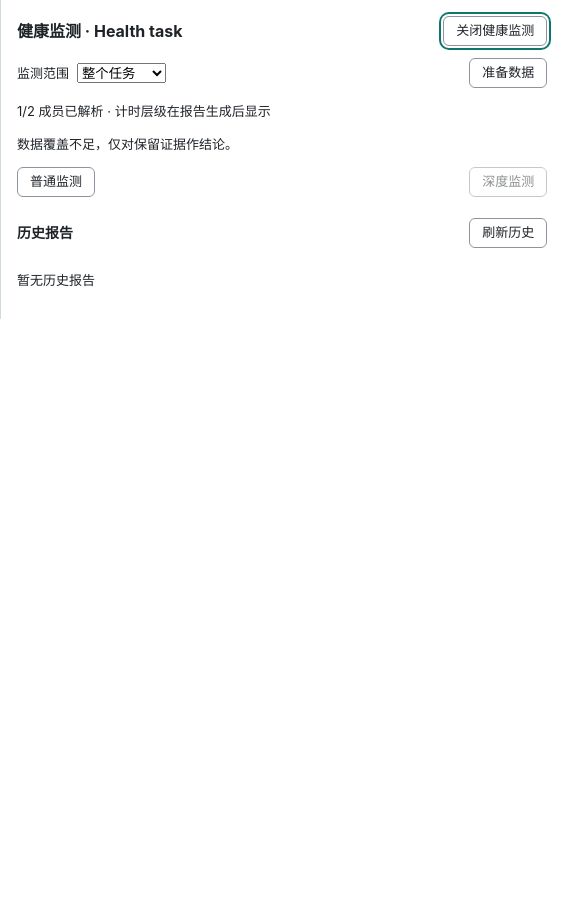
Test: discloses insufficient report coverage and does not turn missing cache into zero
Click the button "普通监测". click: (56, 182)
box: [17,167,95,197]
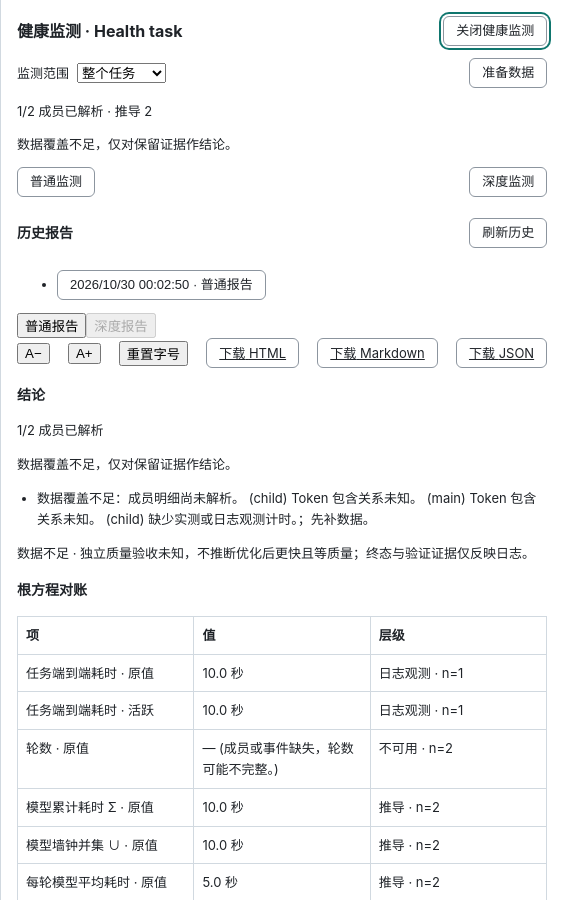
Expected: the text "数据不足" is shown, [17,545,69,561]
Expected: the text "— (" is shown, [194,730,370,788]
